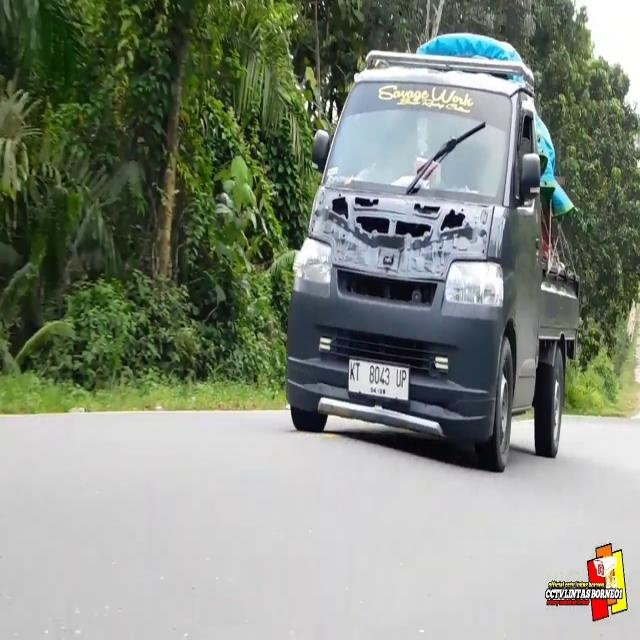Golongan IVB: (284, 49, 582, 472)
